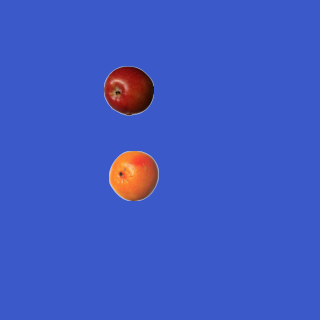Apple Braeburn: (103, 65, 153, 115)
Grapefruit Pink: (108, 150, 158, 200)
